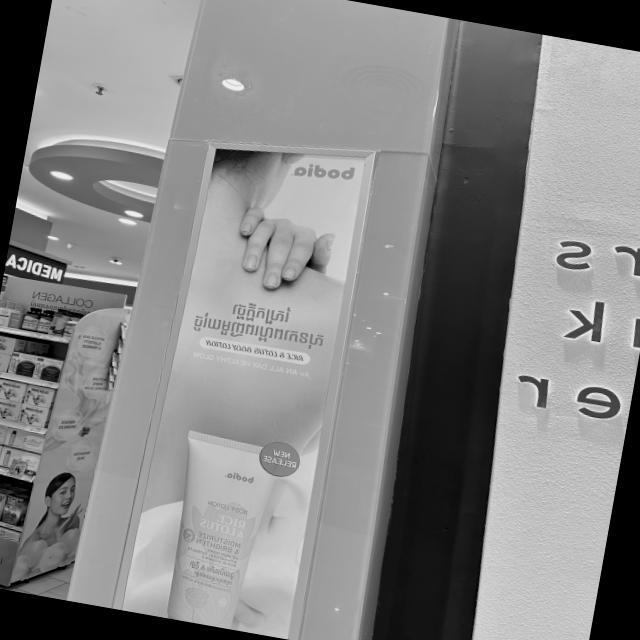Yolov11_80vkh: (186, 311, 334, 352), (223, 294, 308, 329)
